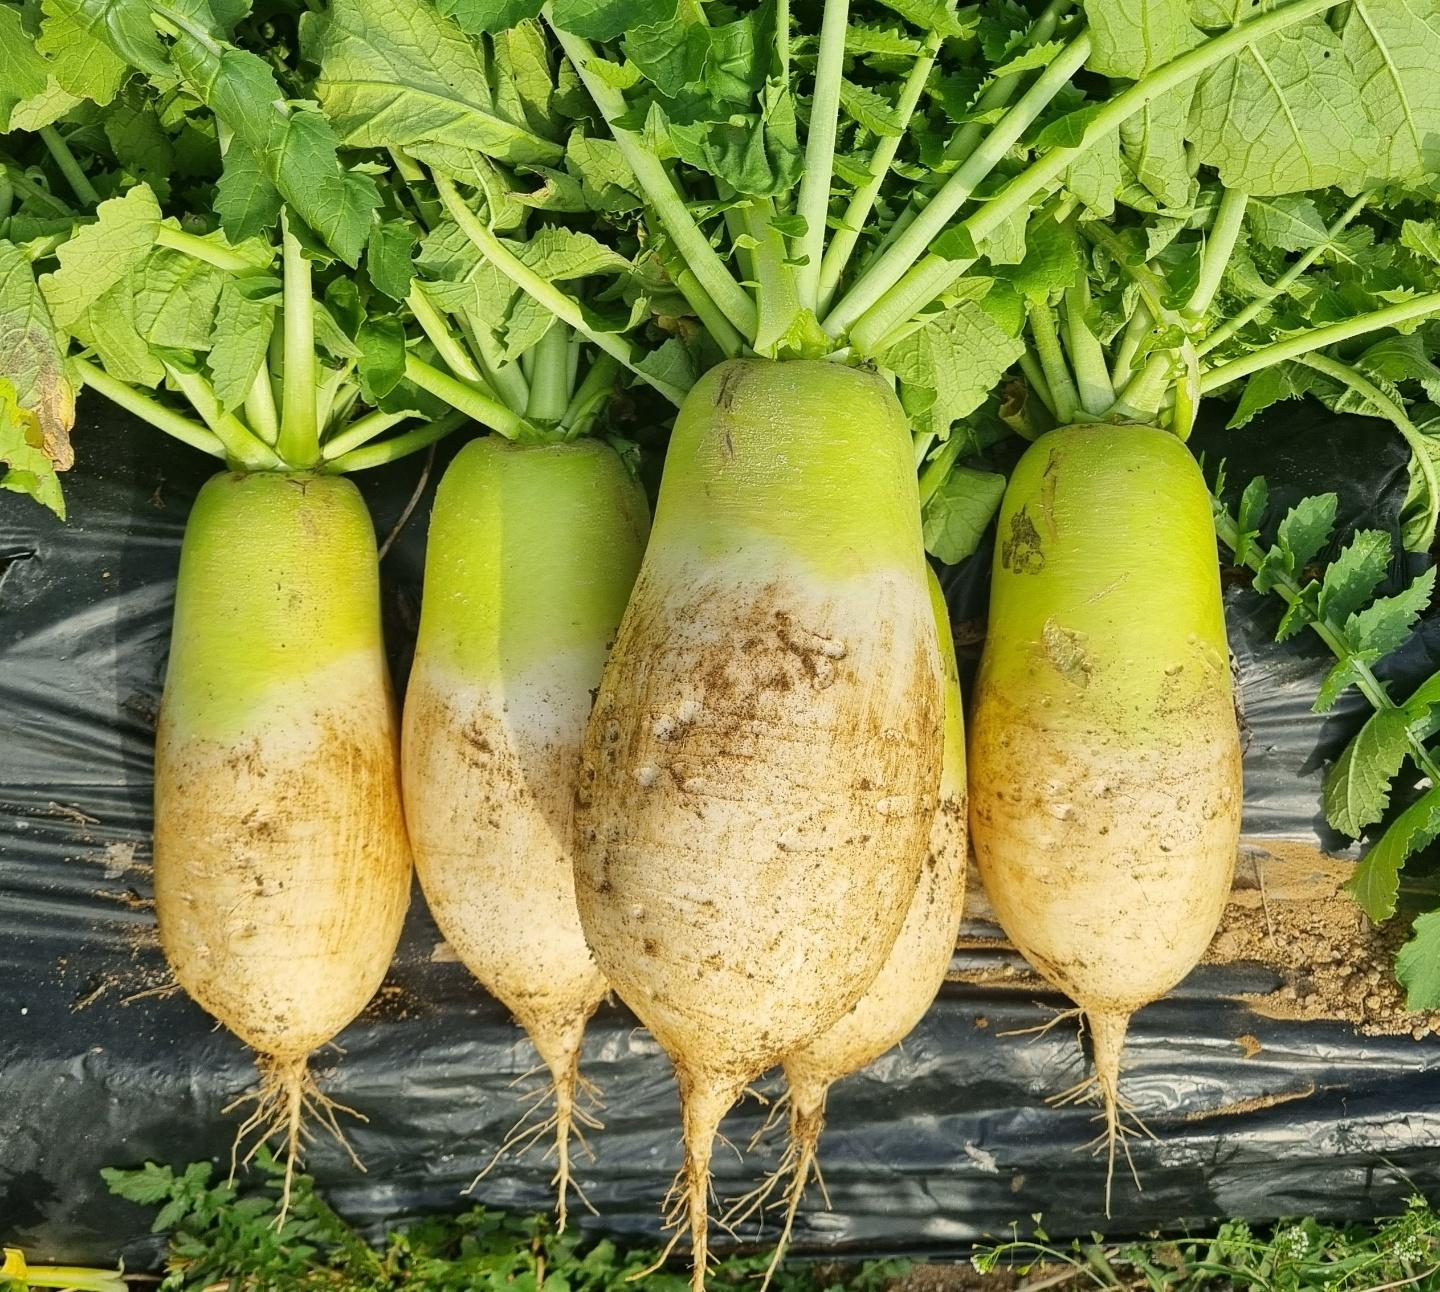radish: (939, 716, 1424, 1292), (425, 742, 931, 1292), (1138, 646, 1440, 1292), (1169, 743, 1440, 1292)
